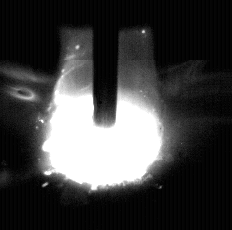arame: (93, 0, 119, 127)
poca: (49, 0, 163, 230)
